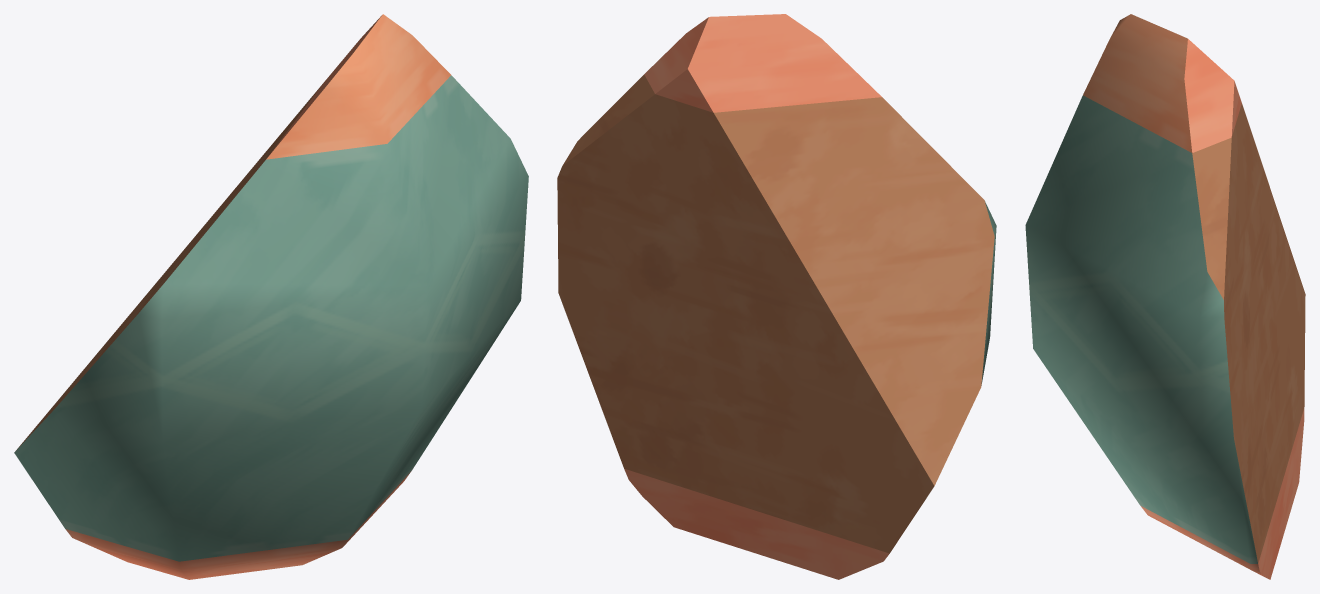
Rendered from vase_s00.fbx.
3 views of the same model, side by side, from view 1: azimuth 30°, elevation 25°; view 2: azimuth 150°, elevation 25°; view 3: azimuth 270°, elevation 25° (orthographic). The views are drawn at different scales.
Parts seen in each view (by area): view 1: vase_s00; view 2: vase_s00; view 3: vase_s00.
Boxes of the visible parts, bbox=[...] form: vase_s00: bbox=[14, 14, 528, 579]; vase_s00: bbox=[557, 14, 996, 579]; vase_s00: bbox=[1025, 14, 1305, 579].
Size of the model in its own units: 1.38 by 1.53 by 0.7142.
